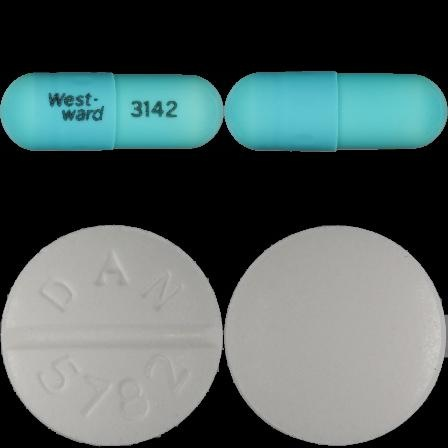68788-9037: (0, 0, 224, 224)
